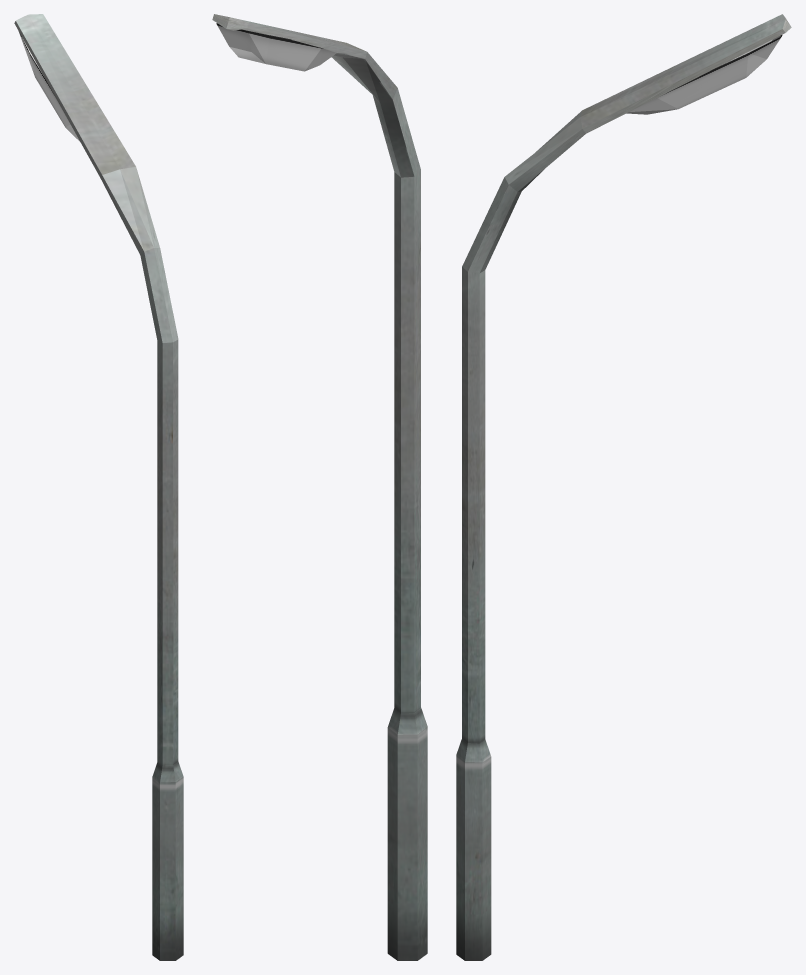
The model's file is PFB-Racing-Track-Assets-01-Lamp.fbx.
The picture shows the model from 3 angles, left to right: view 1: azimuth 30°, elevation 25°; view 2: azimuth 150°, elevation 25°; view 3: azimuth 270°, elevation 25°; orthographic projection. The views are drawn at different scales.
Visible parts, largest first — view 1: lamp; view 2: lamp; view 3: lamp.
Boxes of the visible parts, bbox=[...] form: lamp: bbox=[14, 14, 183, 960]; lamp: bbox=[212, 14, 427, 960]; lamp: bbox=[456, 14, 791, 960].
Bounding box in the file's own units: 5.01 × 118 × 38.47.
